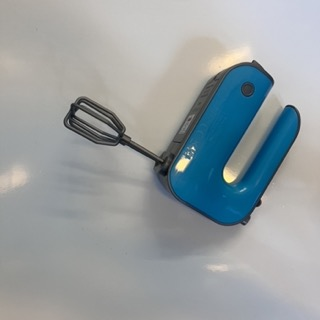mixer: (62, 60, 300, 228)
